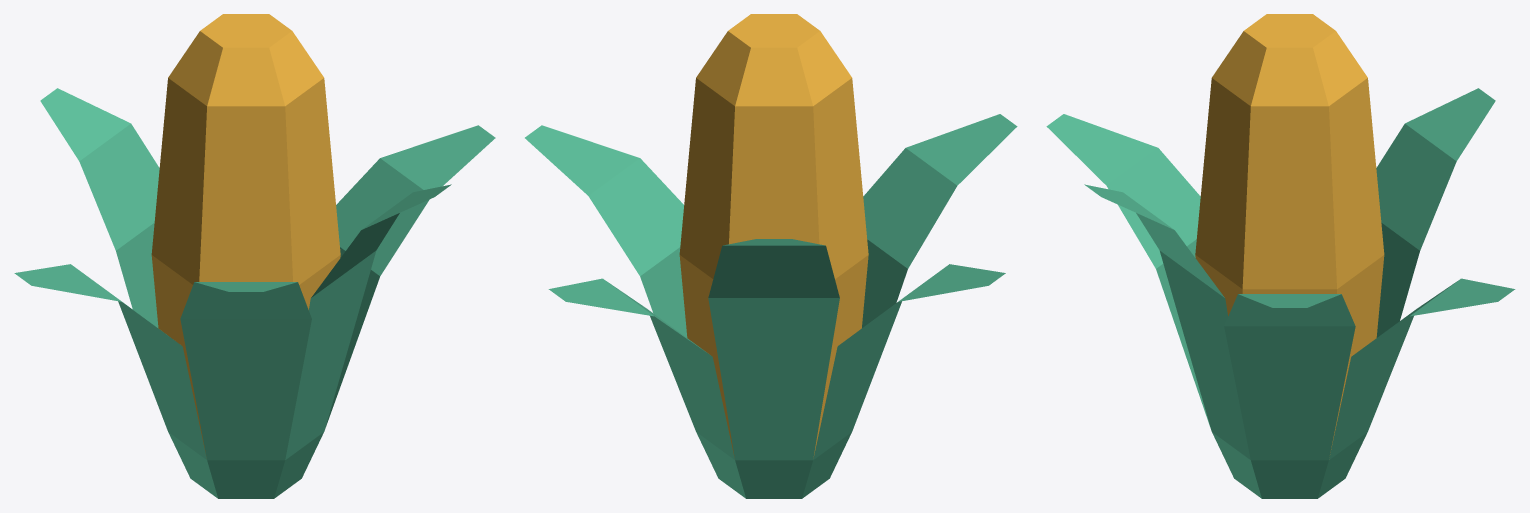
The model's file is corn.obj.
The picture shows the model from 3 angles, left to right: view 1: azimuth 30°, elevation 25°; view 2: azimuth 150°, elevation 25°; view 3: azimuth 270°, elevation 25°; orthographic projection.
Visible parts, largest first — view 1: corn; view 2: corn; view 3: corn.
Boxes of the visible parts, bbox=[...] form: corn: bbox=[14, 14, 495, 498]; corn: bbox=[525, 14, 1017, 498]; corn: bbox=[1046, 14, 1515, 498].
Size of the model in its own units: 0.3432 by 0.3162 by 0.3002.
